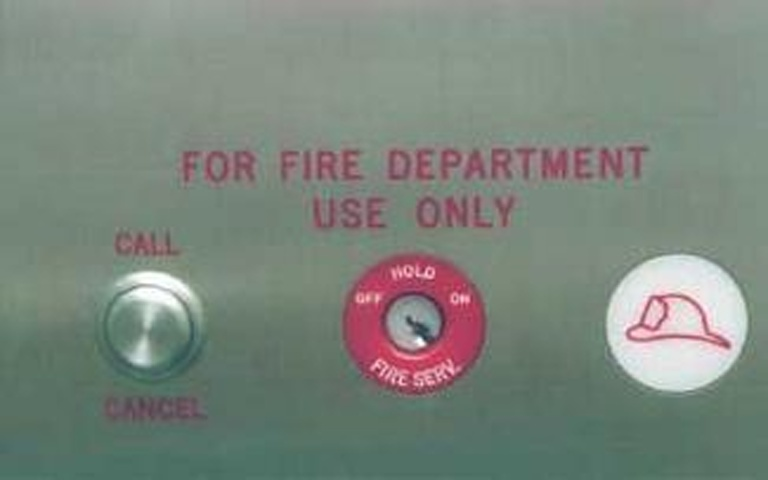empty: (95, 271, 206, 384)
keyhole: (342, 254, 486, 394)
unknown: (604, 253, 748, 392)
